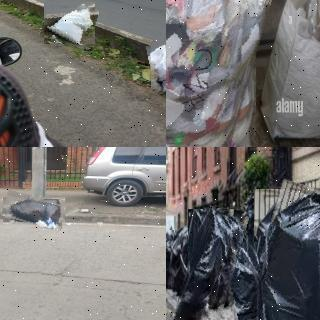Garbage: (166, 0, 270, 147), (241, 184, 320, 320), (180, 207, 241, 320), (223, 235, 271, 320), (41, 0, 97, 46), (2, 193, 67, 228), (171, 225, 191, 297), (148, 39, 166, 93), (166, 228, 173, 288)
